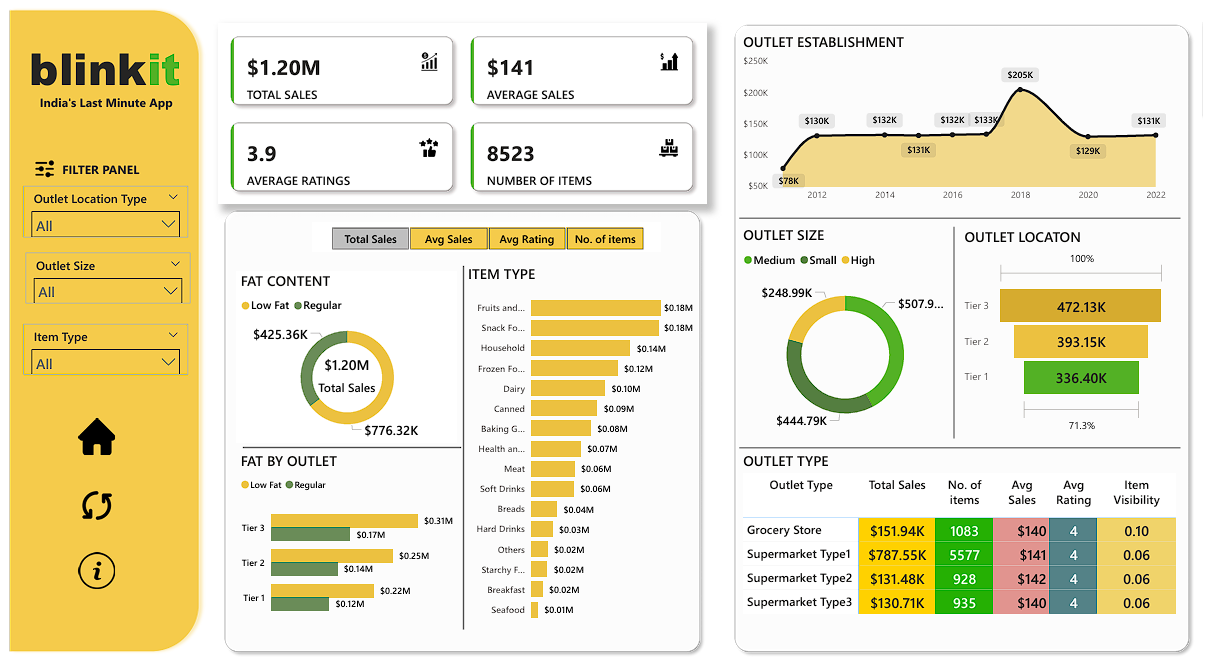

The page's visual inventory and layout, read from the dashboard file:
{"tool":"powerbi","page":{"name":"Dashboard","canvas":[1600,900],"ordinal":0},"visuals":[{"type":"shape","box":[0,10,270,873.3],"z":0},{"type":"textbox","box":[30,48.6,232.9,95.7],"z":1000},{"type":"textbox","box":[44.3,125.7,205.7,37.1],"z":2000},{"type":"cardVisual","fields":{"Data":["BlinkIT Grocery Data.Total Sales","BlinkIT Grocery Data.Avg Sales","BlinkIT Grocery Data.Avg Rating","BlinkIT Grocery Data.Number of items"]},"box":[286.7,36.7,651.7,241.7],"z":3000},{"type":"shape","box":[286.7,278.3,651.7,605],"z":4000},{"type":"donutChart","title":"FAT CONTENT","fields":{"Y":["BlinkIT Grocery Data.Total Sales"],"Category":["BlinkIT Grocery Data.Item Fat Content"]},"box":[311.7,367.3,294.3,228.6],"z":5000},{"type":"slicer","fields":{"Values":["Metrics.Metrics"]},"box":[413.2,301.6,464.5,40.7],"z":6000},{"type":"card","fields":{"Values":["BlinkIT Grocery Data.Total Sales"]},"box":[406.7,456.7,103.3,95],"z":7000},{"type":"clusteredBarChart","title":"FAT BY OUTLET","fields":{"Y":["BlinkIT Grocery Data.Total Sales"],"Category":["BlinkIT Grocery Data.Outlet Location Type"],"Series":["BlinkIT Grocery Data.Item Fat Content"]},"box":[311.7,606.7,295,238.3],"z":8000},{"type":"shape","box":[320,580,291.4,44.3],"z":9000},{"type":"shape","box":[595,360,38.3,485],"z":10000},{"type":"barChart","title":"ITEM TYPE","fields":{"Y":["BlinkIT Grocery Data.Total Sales"],"Category":["BlinkIT Grocery Data.Item Type"]},"box":[615,356.7,310,488.3],"z":11000},{"type":"shape","box":[966.7,30,623.3,853.3],"z":12000},{"type":"lineChart","title":"OUTLET ESTABLISHMENT","fields":{"Category":["BlinkIT Grocery Data.Outlet Establishment Year"],"Y":["BlinkIT Grocery Data.Total Sales"]},"box":[981.7,48.3,573.3,235],"z":13000},{"type":"shape","box":[981.7,279,588.1,34.7],"z":14000},{"type":"donutChart","title":"OUTLET SIZE","fields":{"Y":["BlinkIT Grocery Data.Total Sales"],"Category":["BlinkIT Grocery Data.Outlet Size"]},"box":[981.7,306.1,282,289.5],"z":15000},{"type":"shape","box":[1248.3,308.3,40,281.7],"z":16000},{"type":"funnel","title":"OUTLET LOCATON","fields":{"Y":["Sum(BlinkIT Grocery Data.Sales)"],"Category":["BlinkIT Grocery Data.Outlet Location Type"]},"box":[1276.7,308.3,278.3,280],"z":17000},{"type":"shape","box":[981.7,585.1,588.1,34.7],"z":18000},{"type":"pivotTable","title":"OUTLET TYPE","fields":{"Rows":["BlinkIT Grocery Data.Outlet Type"],"Values":["BlinkIT Grocery Data.Total Sales","BlinkIT Grocery Data.No. of items","BlinkIT Grocery Data.Avg Sales","BlinkIT Grocery Data.Avg Rating","Sum(BlinkIT Grocery Data.Item Visibility)"]},"box":[981.7,606.7,588.3,238.3],"z":19000},{"type":"slicer","fields":{"Values":["BlinkIT Grocery Data.Outlet Location Type"]},"box":[26.7,253.3,220,68.3],"z":20000},{"type":"slicer","fields":{"Values":["BlinkIT Grocery Data.Outlet Size"]},"box":[30,341.7,220,68.3],"z":21000},{"type":"slicer","fields":{"Values":["BlinkIT Grocery Data.Item Type"]},"box":[26.7,436.7,220,68.3],"z":22000},{"type":"textbox","box":[74.2,215.7,123.7,37.7],"z":23000},{"type":"image","box":[95,559.5,60.3,58.8],"z":24000},{"type":"image","box":[36.5,206.6,37.7,46.7],"z":25000},{"type":"image","box":[95,650,60.3,58.8],"z":26000},{"type":"image","box":[95,737.4,60.3,58.8],"z":28000}]}

Visuals, with their boxes in screenshot pixels (x1, y1, x2, y2), scaled from the page's 1600x900 canvas onto the 1206x664 screenshot:
shape: box=[0, 7, 204, 652]
textbox: box=[23, 36, 198, 106]
textbox: box=[33, 93, 188, 120]
cardVisual - BlinkIT Grocery Data.Total Sales x BlinkIT Grocery Data.Avg Sales: box=[216, 27, 707, 205]
shape: box=[216, 205, 707, 652]
"FAT CONTENT" donutChart: box=[235, 271, 457, 440]
slicer - Metrics.Metrics: box=[311, 223, 662, 253]
card - BlinkIT Grocery Data.Total Sales: box=[307, 337, 384, 407]
"FAT BY OUTLET" clusteredBarChart: box=[235, 448, 457, 623]
shape: box=[241, 428, 461, 461]
shape: box=[448, 266, 477, 623]
"ITEM TYPE" barChart: box=[464, 263, 697, 623]
shape: box=[729, 22, 1198, 652]
"OUTLET ESTABLISHMENT" lineChart: box=[740, 36, 1172, 209]
shape: box=[740, 206, 1183, 231]
"OUTLET SIZE" donutChart: box=[740, 226, 953, 439]
shape: box=[941, 227, 971, 435]
"OUTLET LOCATON" funnel: box=[962, 227, 1172, 434]
shape: box=[740, 432, 1183, 457]
"OUTLET TYPE" pivotTable: box=[740, 448, 1183, 623]
slicer - BlinkIT Grocery Data.Outlet Location Type: box=[20, 187, 186, 237]
slicer - BlinkIT Grocery Data.Outlet Size: box=[23, 252, 188, 302]
slicer - BlinkIT Grocery Data.Item Type: box=[20, 322, 186, 373]
textbox: box=[56, 159, 149, 187]
image: box=[72, 413, 117, 456]
image: box=[28, 152, 56, 187]
image: box=[72, 480, 117, 523]
image: box=[72, 544, 117, 587]
